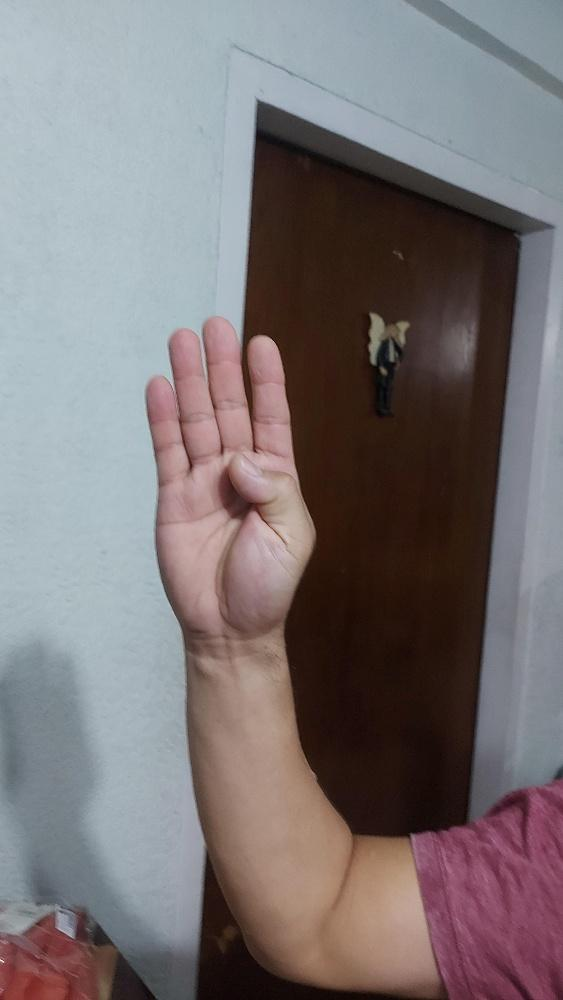b: (144, 314, 316, 637)
